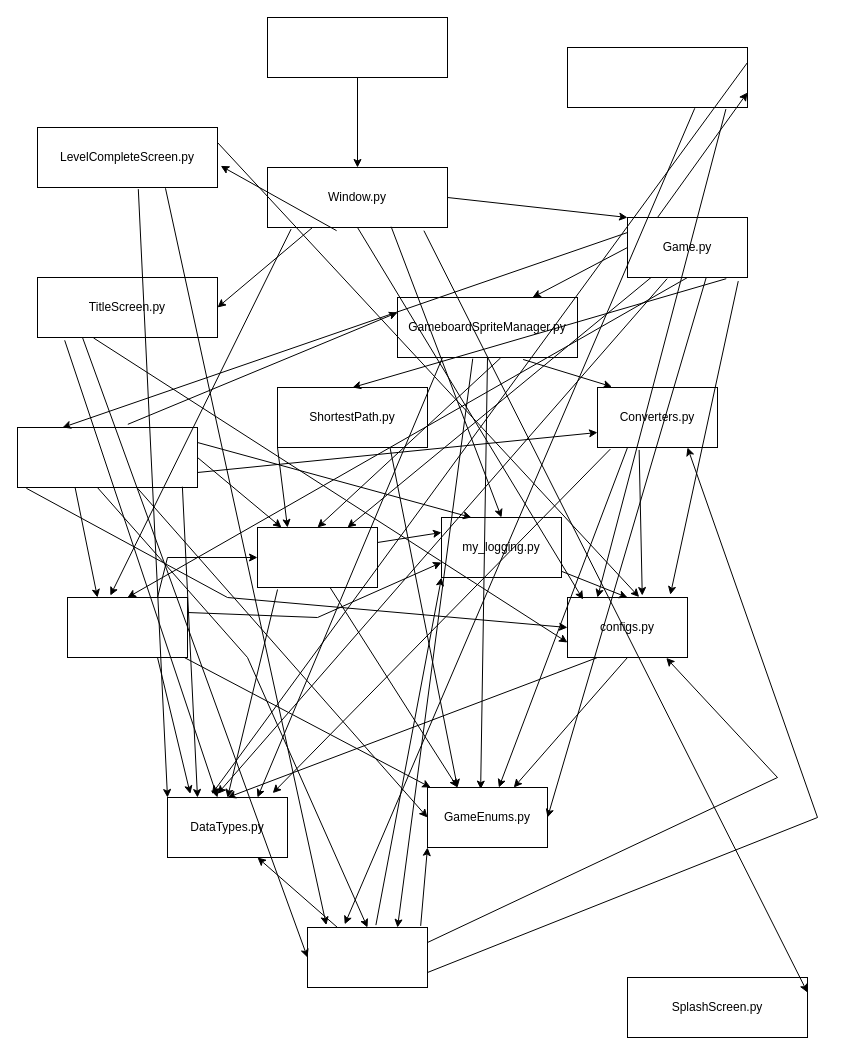
The diagram is 843 pixels wide and 1055 high, and some of its shapes have lost their labels. The shapes that lost their labels are listed below. From the top down, each one's centre as x and y in pixels, then its label:
At (357,47): "SlideQuest.py".
At (657,77): "LevelBackground.py".
At (107,457): "LevelEditor.py".
At (317,557): "GameBoard.py".
At (127,627): "LevelIO.py".
At (367,957): "Sprites.py".
